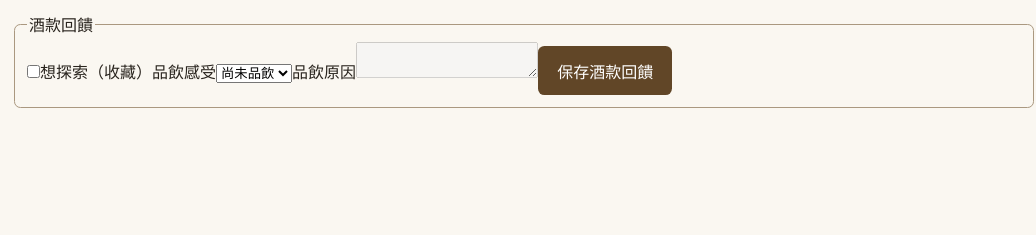
Scenario: an unknown write result retries the same immutable payload and key
The width and height of the screenshot is (1036, 235).
Click the checkbox labelled "想探索（收藏）".
click(34, 71)  # box [27, 65, 40, 78]
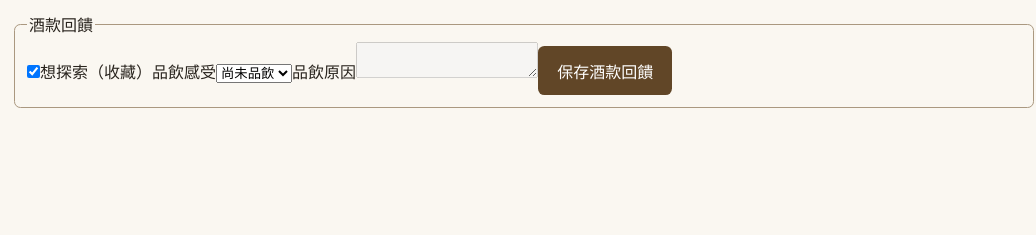
Click the button "保存酒款回饋".
click(605, 71)  # box [538, 46, 672, 95]
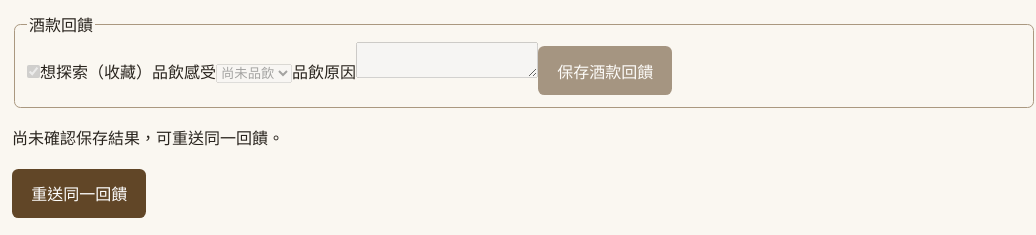
Click the button "重送同一回饋".
click(79, 193)  # box [12, 169, 146, 218]
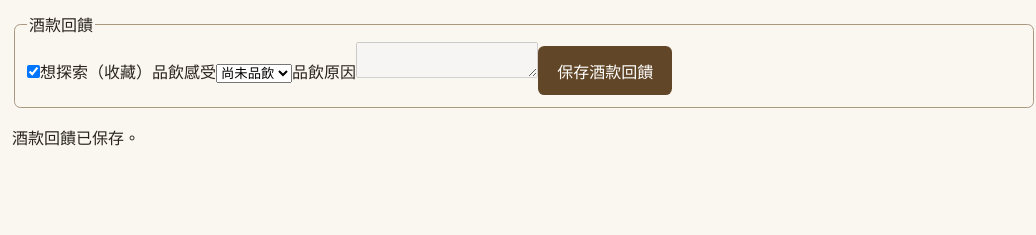
Now the text "酒款回饋已保存。" is shown, box [12, 127, 140, 149]
